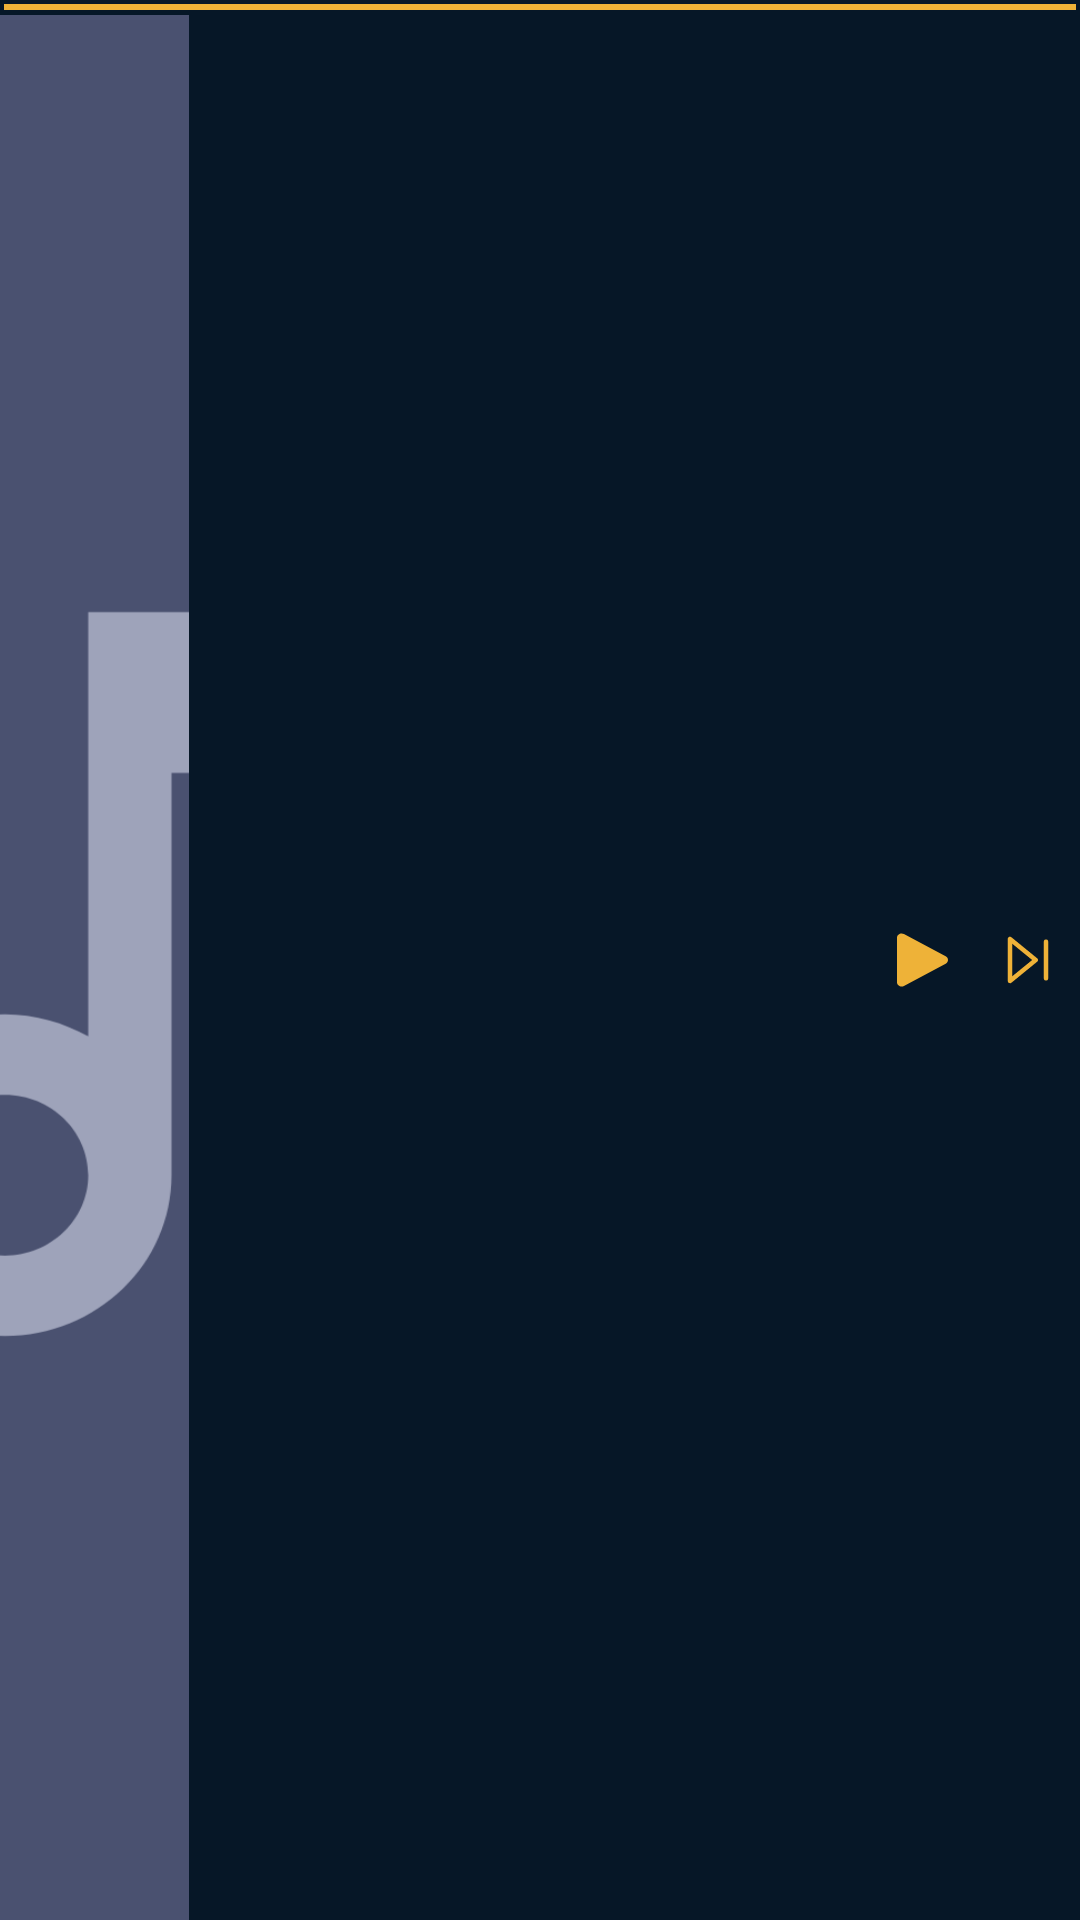

Icons on this 1080 x 1920 Android screen, each with its box as Rect(x1, y1, x2, y2):
Next: Rect(1007, 936, 1049, 984)
play artist: Rect(897, 933, 948, 987)
